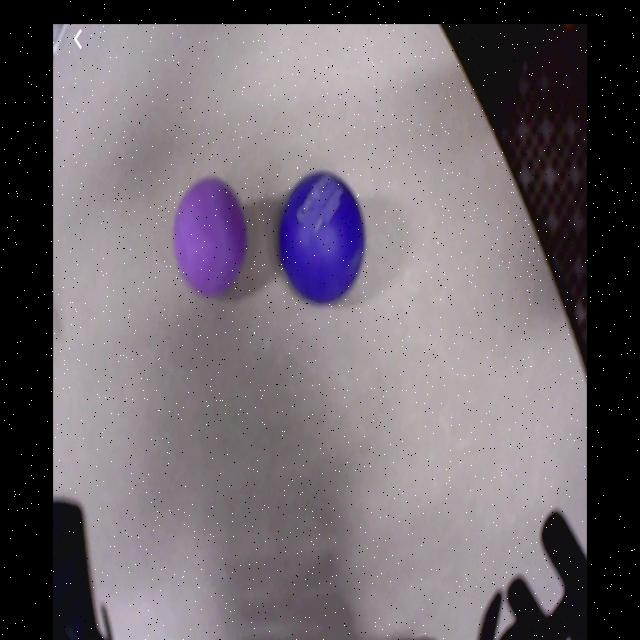ball: (279, 169, 369, 301), (175, 175, 249, 295)
